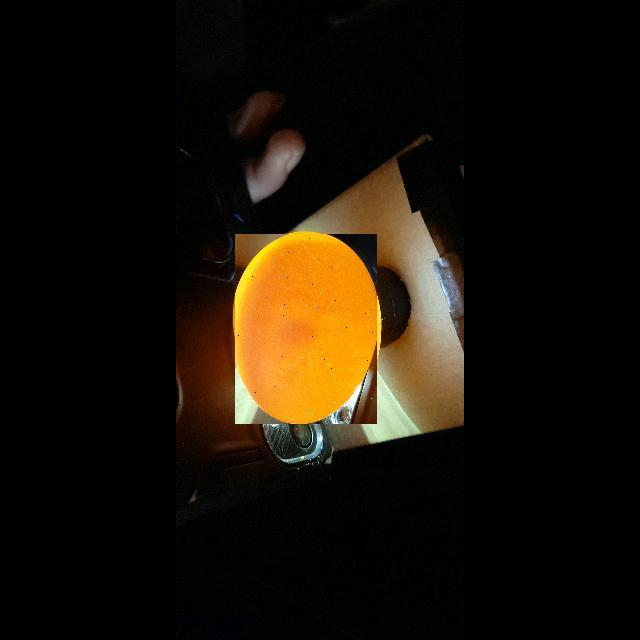Fertile: (235, 234, 377, 424)
